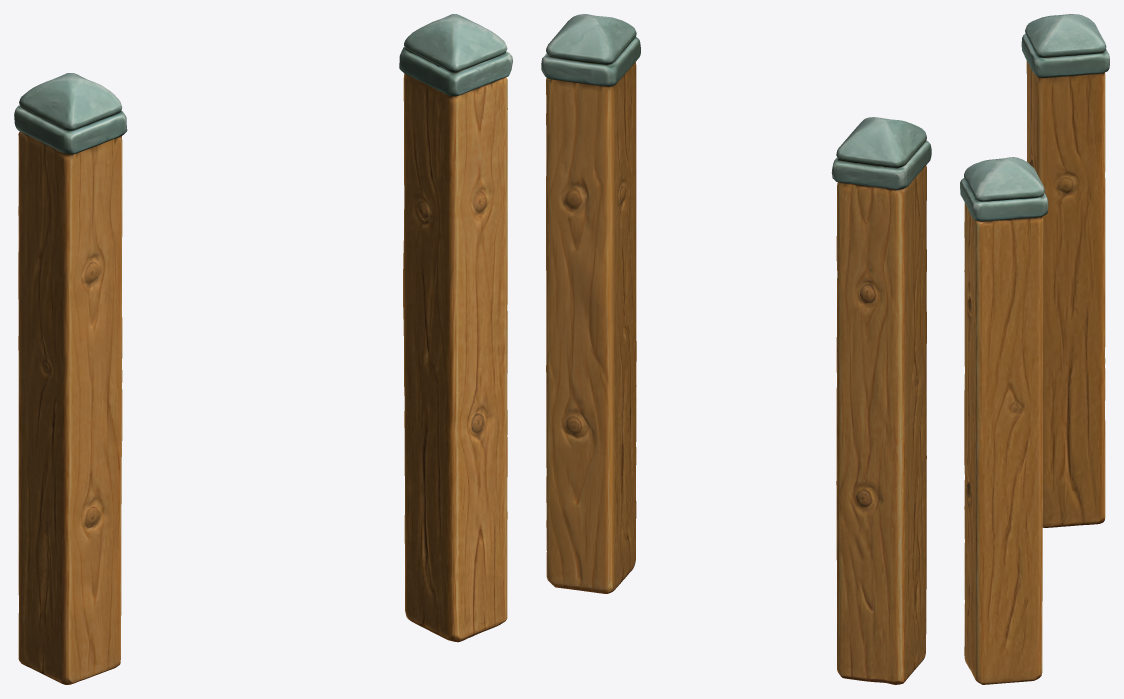
File: tripo_convert_2b114a40-5a6c-45e4-8db1-dca72bf0adde.fbx
3 renders of one model, left to right at view 1: azimuth 30°, elevation 25°; view 2: azimuth 150°, elevation 25°; view 3: azimuth 270°, elevation 25°, orthographic. The views are drawn at different scales.
Visible parts, largest first — view 1: tripo_node_2b114a40; view 2: tripo_node_2b114a40; view 3: tripo_node_2b114a40.
Part boxes in pixels (x1,y1,x2,y2): tripo_node_2b114a40: (14, 14, 512, 684); tripo_node_2b114a40: (541, 14, 931, 684); tripo_node_2b114a40: (960, 14, 1109, 684).
Size of the model in its own units: 0.734 by 0.9796 by 0.2604.
1 material, 1 textured.
